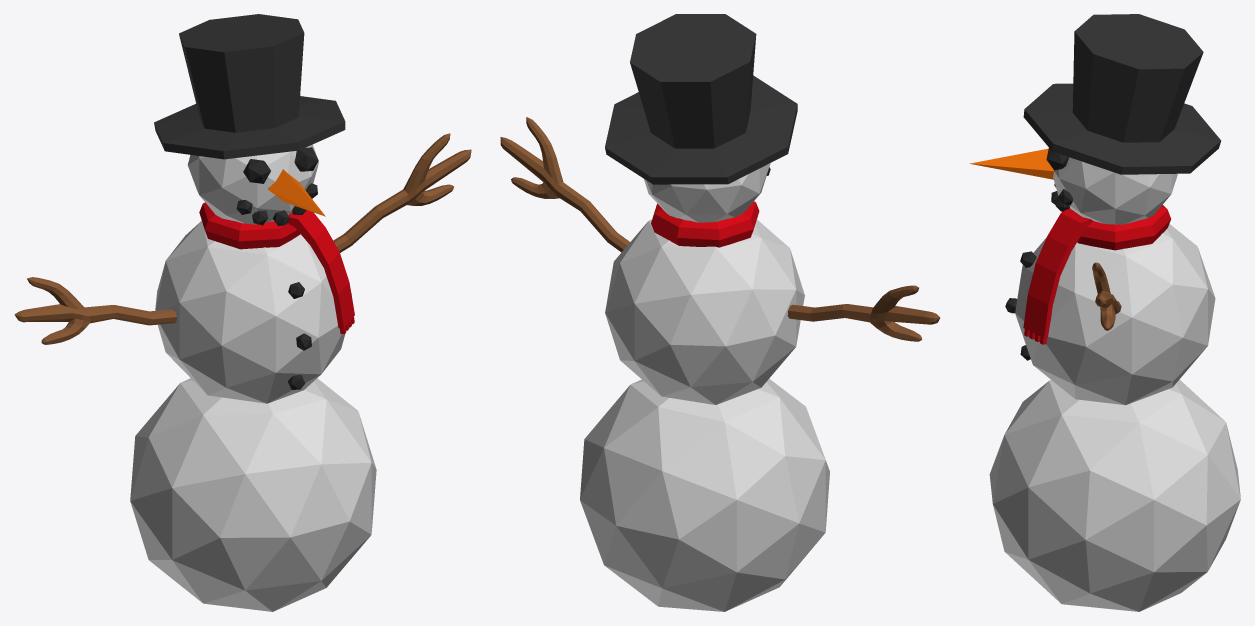
File: bumbeishvili.glb
The picture shows the model from 3 angles, left to right: view 1: azimuth 30°, elevation 25°; view 2: azimuth 150°, elevation 25°; view 3: azimuth 270°, elevation 25°; orthographic projection.
Parts seen in each view (by area): view 1: Base, Chest, Hat, Head, Arm R, Arm L_Material #29_0, Scarf 2, Scarf, Nose; view 2: Base, Chest, Hat, Head, Arm L_Material #29_0, Arm R, Scarf; view 3: Base, Chest, Hat, Head, Scarf 2, Scarf, Nose, Arm L_Material #29_0.
Boxes of the visible parts, box(x1,y1,x2,y2) form: Base: box(130, 378, 376, 611); Chest: box(155, 221, 351, 403); Hat: box(154, 14, 345, 159); Head: box(187, 144, 318, 224); Arm R: box(14, 277, 176, 344); Arm L_Material #29_0: box(333, 133, 471, 252); Scarf 2: box(287, 210, 354, 328); Scarf: box(199, 202, 300, 249); Nose: box(267, 169, 325, 216); Base: box(580, 378, 829, 611); Chest: box(605, 219, 804, 404); Hat: box(605, 14, 797, 184); Head: box(644, 163, 770, 222); Arm L_Material #29_0: box(500, 117, 629, 252); Arm R: box(787, 285, 940, 341); Scarf: box(651, 201, 759, 247); Base: box(989, 379, 1240, 611); Chest: box(1015, 224, 1215, 405); Hat: box(1023, 14, 1221, 174); Head: box(1053, 157, 1177, 224); Scarf 2: box(1023, 208, 1092, 338); Scarf: box(1062, 205, 1170, 250); Nose: box(970, 148, 1054, 179); Arm L_Material #29_0: box(1092, 262, 1121, 330).
Size of the model in its own units: 1.75 by 2.14 by 0.9203.
